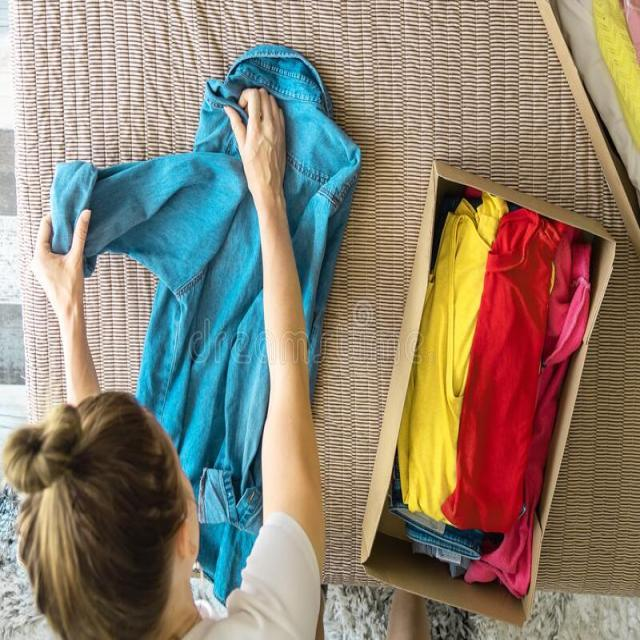clothes: (58, 155, 255, 438), (441, 212, 543, 536), (241, 59, 355, 278)
